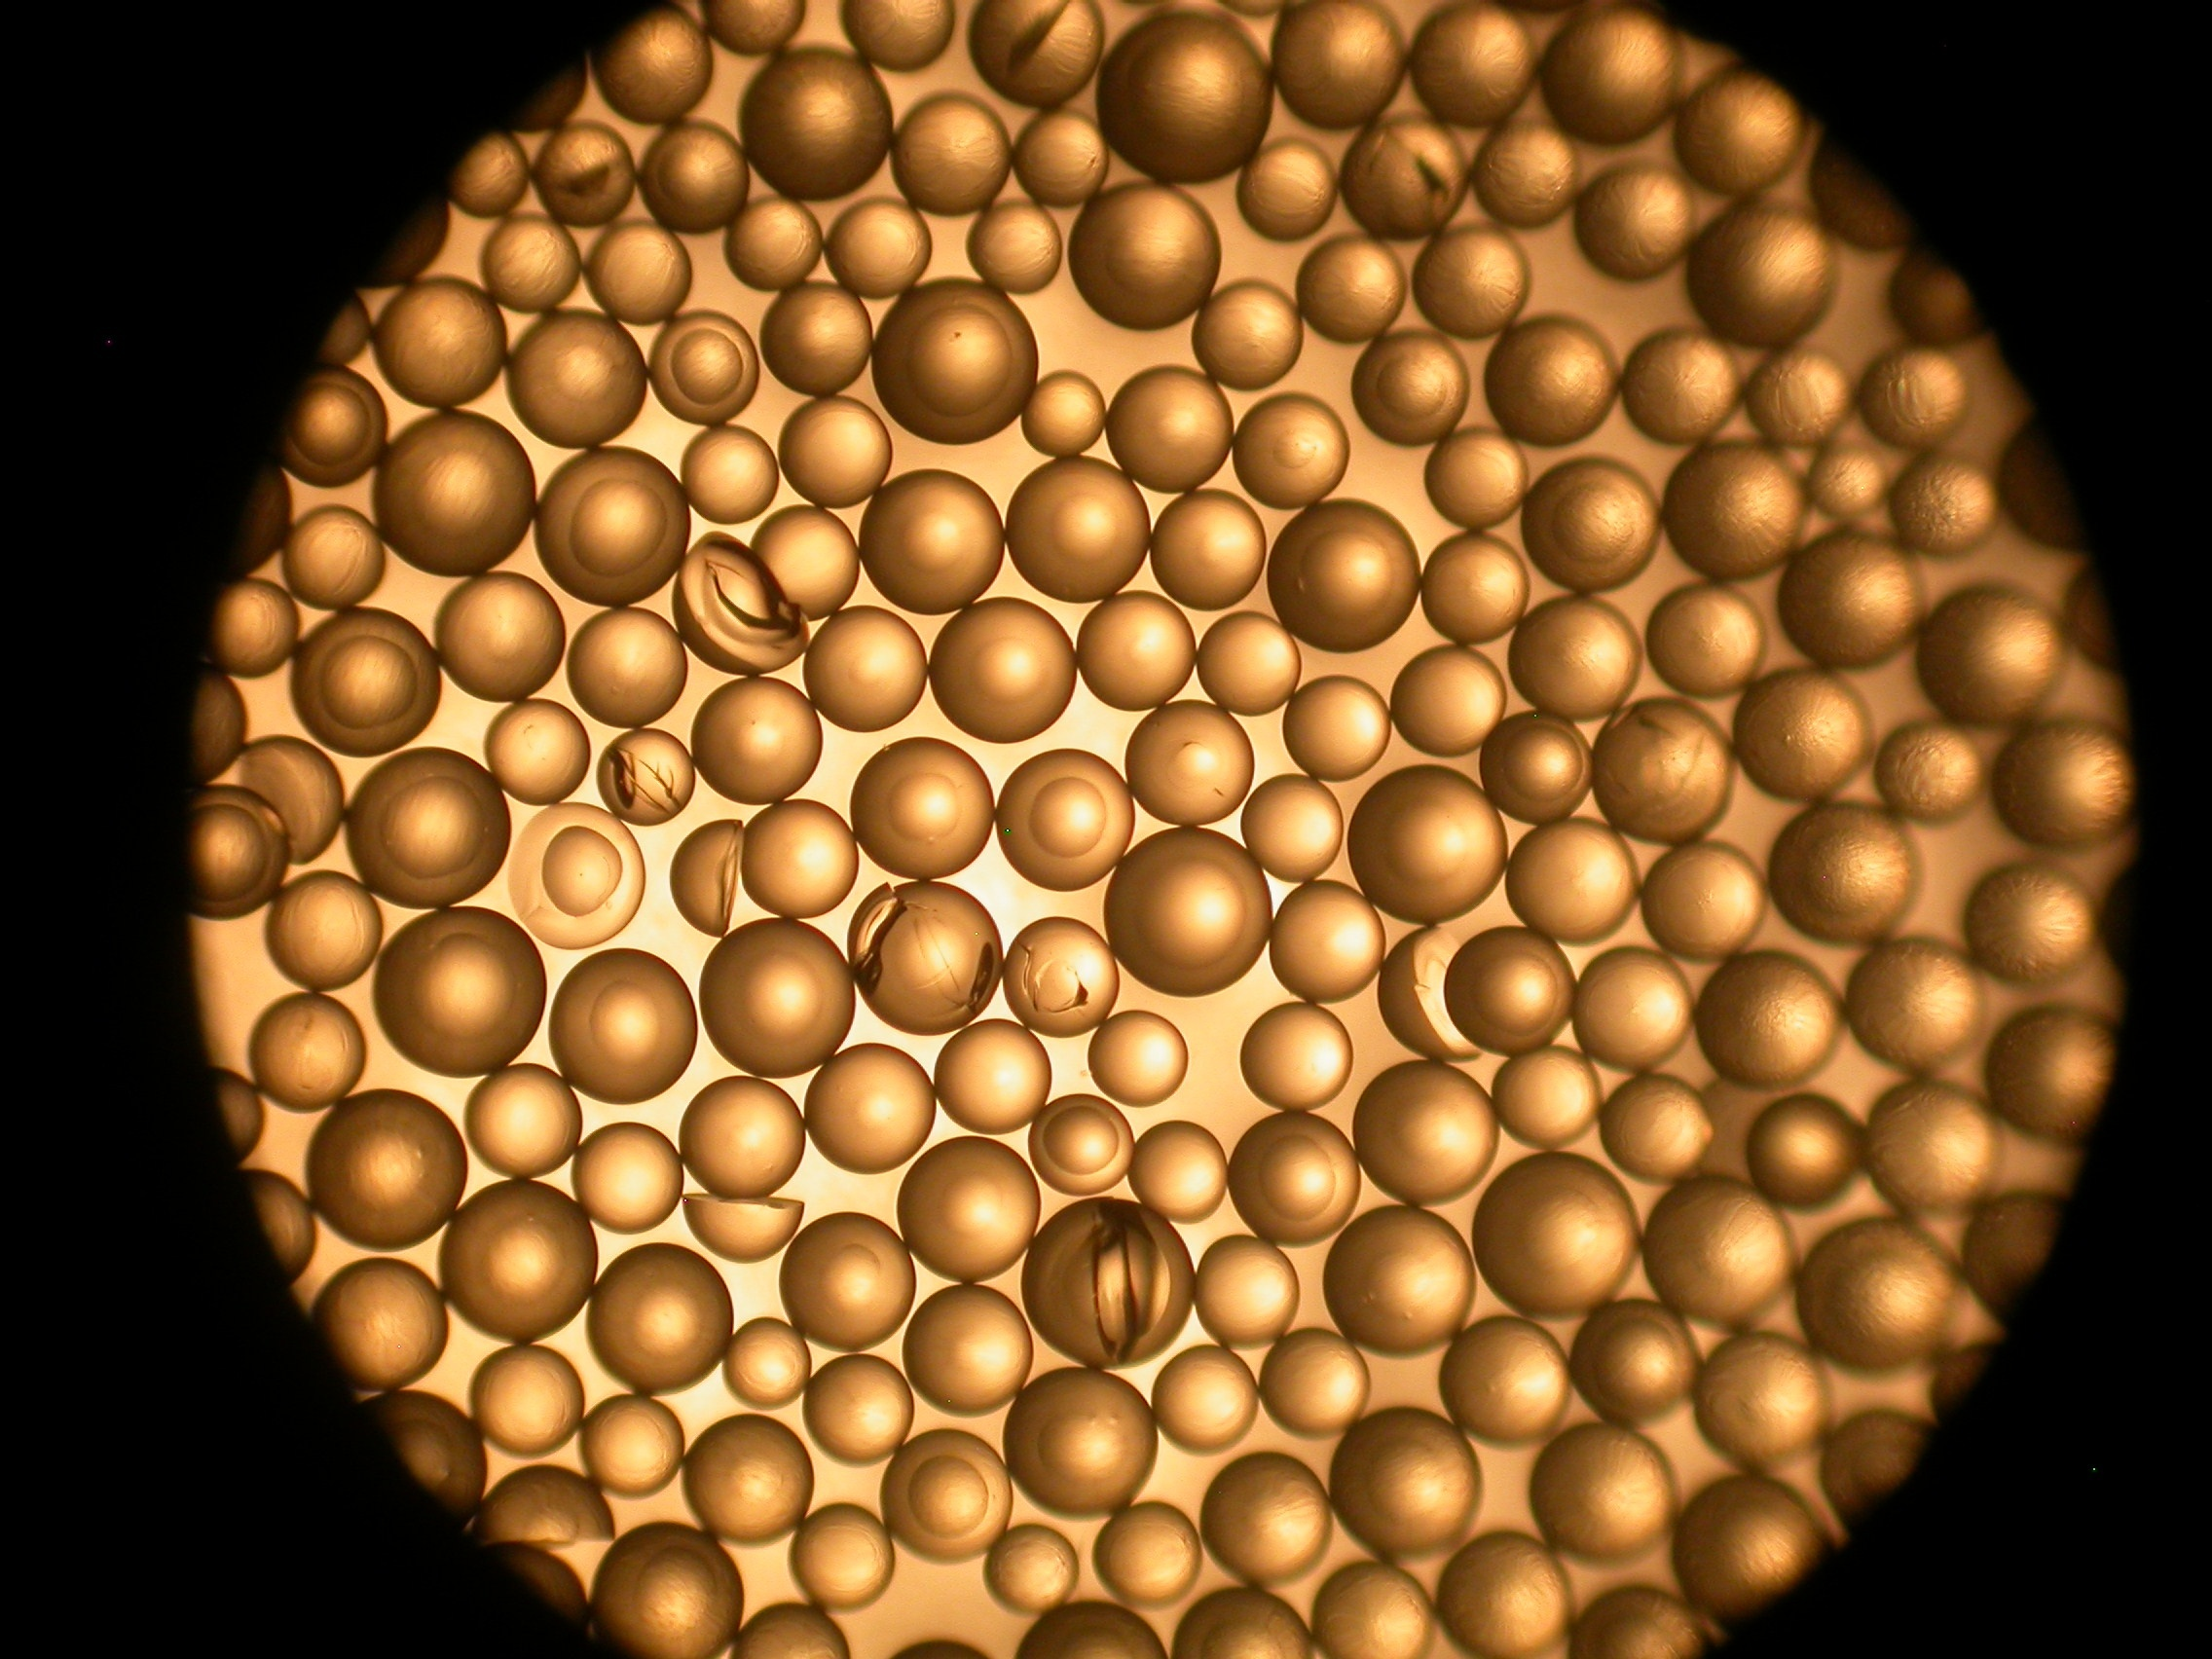destroyed_resin: (1022, 1195, 1195, 1371), (846, 880, 1005, 1039), (1592, 697, 1737, 843), (669, 530, 812, 676), (509, 802, 646, 950), (1338, 112, 1467, 246), (1376, 925, 1482, 1066), (963, 2, 1104, 106), (1001, 917, 1122, 1039), (237, 735, 347, 863), (472, 1464, 617, 1554), (529, 120, 636, 228), (596, 728, 695, 828), (669, 819, 747, 938), (679, 1192, 805, 1263)
full_resin: (1096, 7, 1275, 185), (373, 906, 549, 1080), (1103, 828, 1273, 999), (1472, 1152, 1641, 1323), (871, 277, 1042, 446), (374, 410, 538, 579), (345, 746, 512, 910), (305, 1089, 470, 1251), (439, 1180, 599, 1345), (1794, 1216, 1959, 1375), (697, 915, 857, 1077), (1348, 765, 1508, 925), (535, 446, 693, 608), (1001, 1366, 1160, 1525), (1327, 1405, 1484, 1563), (1672, 1476, 1834, 1628), (1641, 1175, 1797, 1330), (1266, 498, 1421, 655), (547, 946, 698, 1107), (738, 47, 894, 202), (1322, 1206, 1479, 1359), (1068, 181, 1223, 335), (289, 606, 442, 760), (585, 1243, 735, 1396), (1686, 200, 1838, 350), (927, 596, 1078, 746), (1768, 800, 1921, 946), (895, 1134, 1043, 1284), (1352, 1060, 1501, 1206), (1005, 455, 1151, 605), (1538, 3, 1686, 150), (850, 735, 995, 884), (859, 469, 1003, 617), (995, 748, 1137, 897), (1777, 530, 1928, 671), (590, 1521, 745, 1659), (1695, 950, 1844, 1091), (1918, 586, 2069, 725), (1529, 1424, 1679, 1563), (1663, 439, 1810, 580), (1693, 1331, 1836, 1474), (1993, 718, 2142, 854), (1844, 936, 1991, 1073), (507, 308, 648, 450), (1864, 1079, 2006, 1218), (1521, 455, 1663, 594), (779, 1209, 918, 1352), (1987, 1006, 2132, 1143), (1735, 666, 1876, 805), (1226, 1112, 1364, 1249), (880, 1427, 1017, 1565), (310, 1256, 451, 1389), (1200, 1452, 1334, 1588), (902, 1284, 1036, 1420), (681, 1413, 815, 1549), (1963, 859, 2101, 992), (803, 1042, 937, 1176), (1484, 317, 1620, 450), (1442, 924, 1578, 1056), (1674, 63, 1804, 200), (1435, 1530, 1575, 1659), (373, 275, 507, 408), (434, 570, 568, 702), (1505, 816, 1641, 946), (1439, 1316, 1573, 1446), (690, 676, 824, 807), (1270, 2, 1404, 129), (1507, 596, 1644, 720), (1125, 699, 1256, 828), (1569, 1300, 1702, 1427), (1406, 2, 1536, 129), (1106, 366, 1233, 495), (1639, 838, 1768, 964), (803, 605, 928, 734), (171, 782, 287, 920), (1573, 945, 1696, 1072), (679, 1075, 805, 1199), (590, 2, 714, 125), (566, 606, 690, 730), (246, 992, 369, 1115), (890, 92, 1012, 218), (1575, 162, 1696, 284), (1076, 591, 1198, 713), (738, 798, 860, 920), (263, 868, 383, 992), (273, 362, 390, 490), (1646, 582, 1770, 701), (1270, 880, 1385, 1007), (1620, 328, 1742, 446), (1745, 1093, 1864, 1213), (1150, 491, 1268, 612), (934, 1018, 1055, 1134), (1413, 221, 1531, 340), (1233, 392, 1352, 511), (465, 1061, 583, 1180), (1352, 329, 1468, 446), (749, 504, 860, 626), (1479, 709, 1595, 824), (1599, 1073, 1716, 1188), (1390, 645, 1508, 758), (467, 1345, 585, 1459), (637, 120, 752, 235), (779, 396, 894, 509), (648, 310, 761, 425), (570, 1122, 686, 1234), (1259, 1328, 1372, 1441), (761, 282, 874, 396), (1858, 343, 1975, 453), (803, 1354, 914, 1467), (1191, 279, 1303, 392), (1421, 530, 1531, 645), (1240, 1000, 1355, 1110), (1193, 1234, 1301, 1351), (1890, 451, 2001, 561), (1298, 232, 1407, 343), (1491, 1044, 1604, 1152), (1312, 1563, 1439, 1659), (1474, 118, 1581, 230), (1151, 1345, 1259, 1457), (583, 220, 695, 328), (1872, 720, 1986, 824), (789, 1504, 897, 1612), (1092, 1502, 1202, 1608), (1282, 676, 1392, 782), (486, 697, 592, 807), (1745, 347, 1857, 451), (1240, 774, 1345, 884), (580, 1392, 686, 1499), (280, 504, 387, 610), (826, 197, 934, 301), (1566, 1586, 1719, 1659), (1028, 1093, 1134, 1197), (1197, 612, 1303, 716), (1129, 1114, 1228, 1225), (1425, 427, 1529, 530), (204, 575, 303, 683), (1237, 138, 1336, 242), (1087, 1009, 1190, 1108), (481, 214, 583, 314), (1169, 1589, 1313, 1659), (681, 425, 780, 526), (1012, 108, 1111, 209), (982, 1523, 1083, 1619), (967, 202, 1064, 300), (723, 197, 822, 293), (1012, 1601, 1170, 1659), (721, 1316, 813, 1412), (836, 2, 956, 71), (1021, 369, 1108, 458), (446, 129, 529, 220), (1804, 441, 1888, 525), (697, 2, 806, 56)
